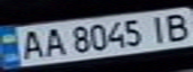0: (87, 20, 109, 52)
4: (106, 18, 127, 51)
5: (121, 16, 148, 47)
8: (66, 22, 90, 54)
A: (15, 27, 48, 61), (39, 25, 69, 58)
B: (160, 10, 193, 43)
I: (145, 12, 172, 44)
